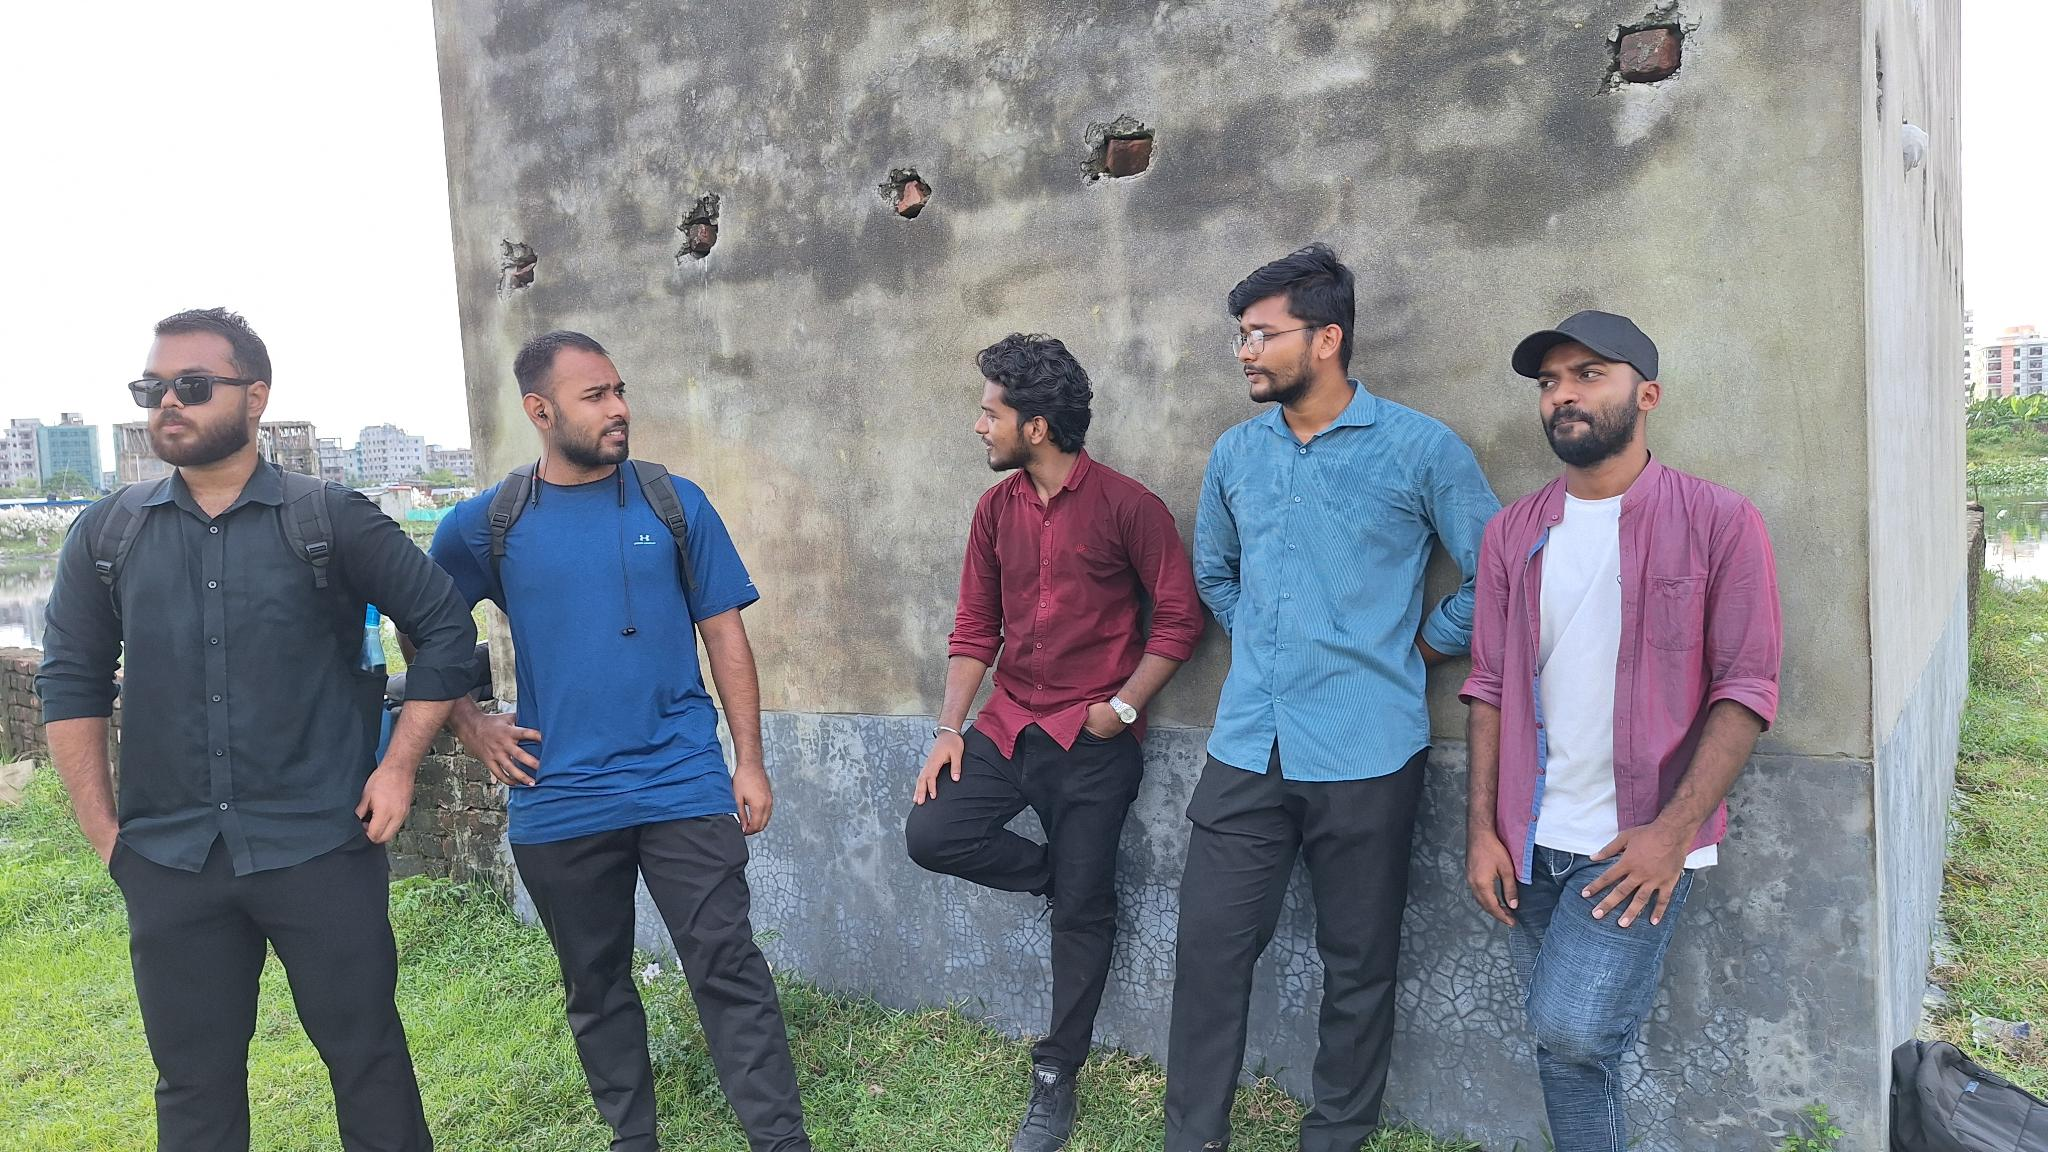nonSmoker: (37, 307, 478, 1152), (1158, 241, 1504, 1152), (430, 333, 812, 1152), (1464, 307, 1779, 1152), (904, 331, 1211, 1152)
